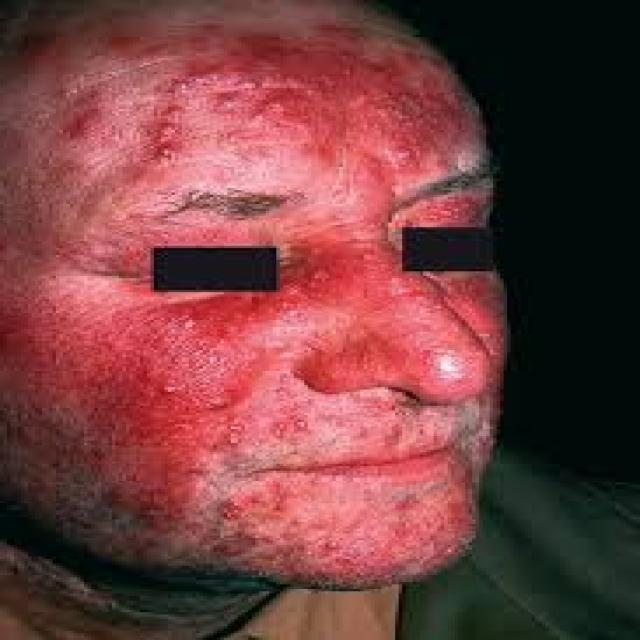Rosacea: (0, 264, 302, 576), (17, 19, 464, 199), (294, 231, 481, 403), (213, 480, 469, 569), (444, 266, 506, 395)
